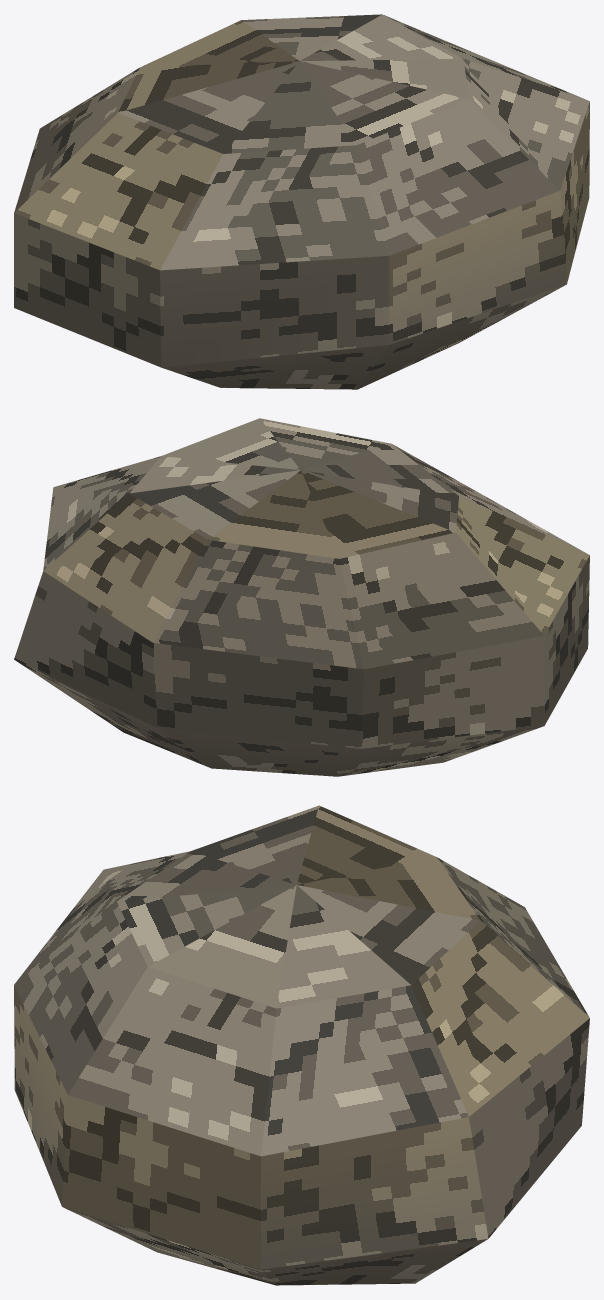
Rendered from nature.rock.glb.
The picture shows the model from 3 angles, top to bottom: view 1: azimuth 30°, elevation 25°; view 2: azimuth 150°, elevation 25°; view 3: azimuth 270°, elevation 25°; orthographic projection. The views are drawn at different scales.
Visible parts, largest first — view 1: kit_rock; view 2: kit_rock; view 3: kit_rock.
Part boxes in pixels (x1=…): kit_rock: x1=14, y1=14, x2=589, y2=389; kit_rock: x1=14, y1=418, x2=589, y2=776; kit_rock: x1=14, y1=805, x2=589, y2=1285.
Size of the model in its own units: 1.21 by 0.6248 by 0.9381.
Materials: 1 (1 with a texture image).
